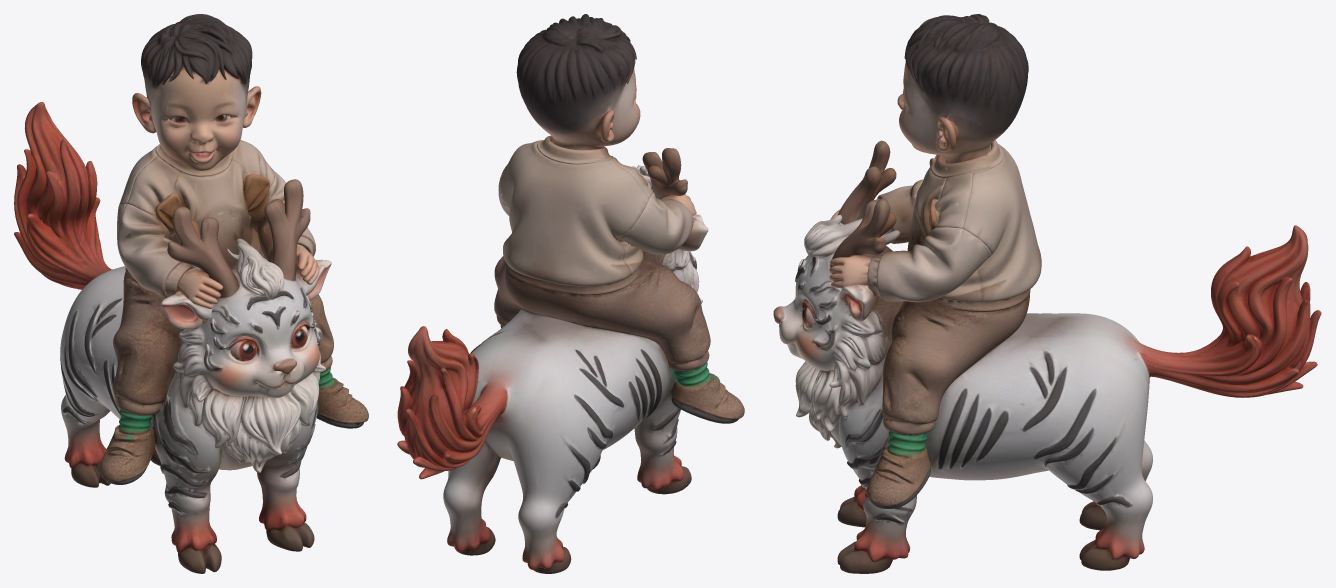
Rendered from lushu_boy.glb.
3 renders of one model, left to right at view 1: azimuth 30°, elevation 25°; view 2: azimuth 150°, elevation 25°; view 3: azimuth 270°, elevation 25°, orthographic. The views are drawn at different scales.
Visible parts, largest first — view 1: node_0; view 2: node_0; view 3: node_0.
Boxes of the visible parts, left/top/right/bottom form: node_0: left=14, top=14, right=368, bottom=573; node_0: left=397, top=14, right=744, bottom=573; node_0: left=773, top=14, right=1321, bottom=573.
Bounding box in the file's own units: 0.5325 × 0.9609 × 0.913.
Materials: 1 (1 with a texture image).
